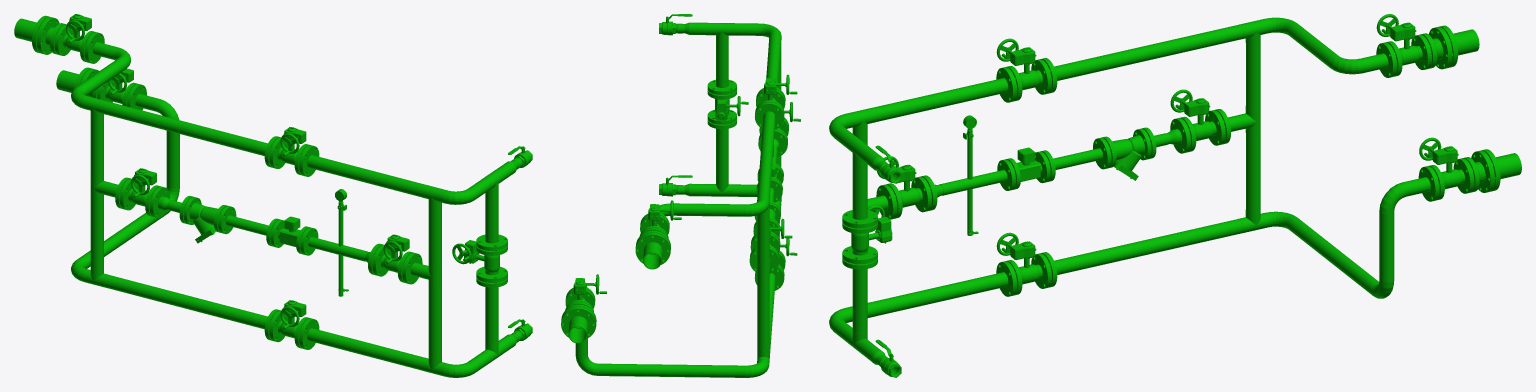
Rendered from drainage-pump.glb.
3 views of the same model, side by side, from view 1: azimuth 30°, elevation 25°; view 2: azimuth 150°, elevation 25°; view 3: azimuth 270°, elevation 25° (orthographic). The views are drawn at different scales.
Visible parts, largest first — view 1: Fake; view 2: Fake; view 3: Fake.
Part boxes in pixels (x1=…): Fake: x1=14, y1=14, x2=532, y2=377; Fake: x1=561, y1=14, x2=800, y2=377; Fake: x1=829, y1=14, x2=1521, y2=377.
Bounding box in the file's own units: 1.88 × 1.38 × 3.51.
